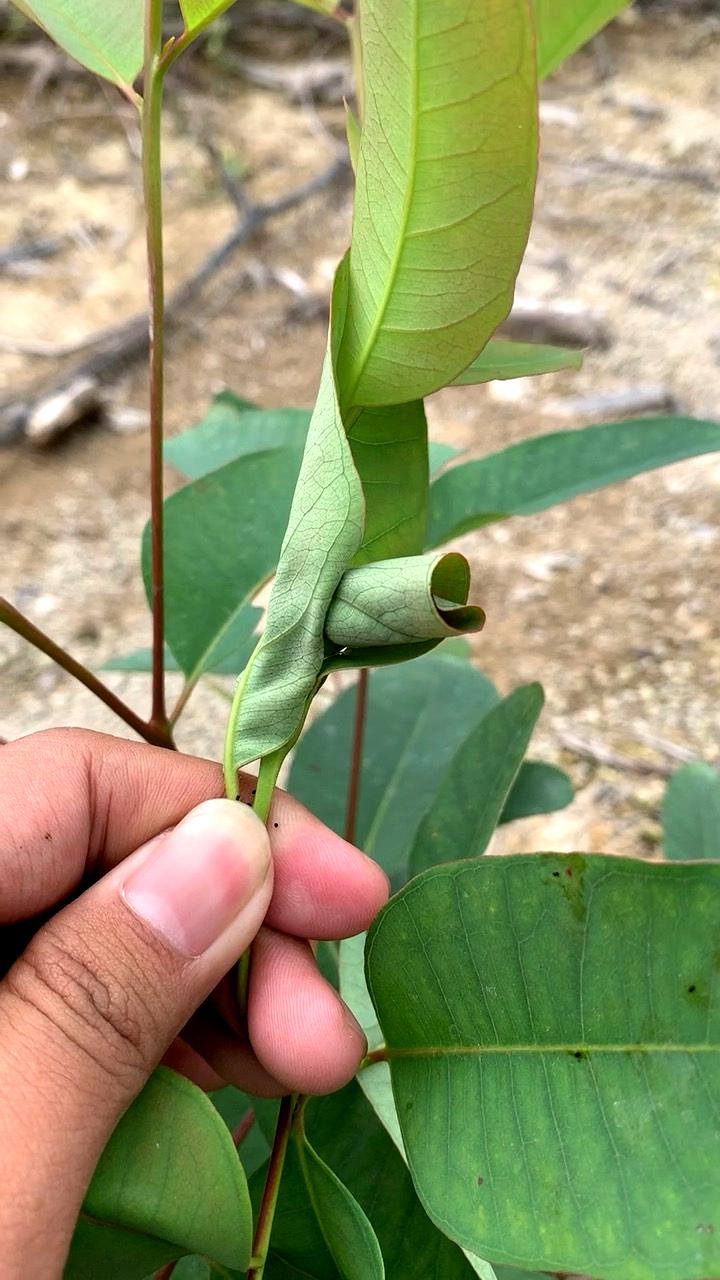Leaf Roller - Leaf: (207, 513, 513, 706)
